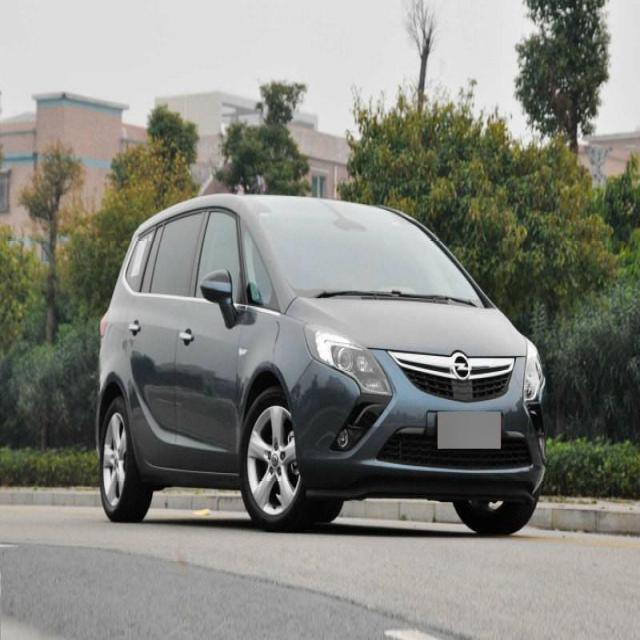door: (127, 210, 208, 463)
front_bumper: (288, 348, 547, 500)
front_glass: (252, 204, 491, 306)
front_left_side_light: (520, 336, 544, 404)
front_right_side_door: (172, 203, 246, 476)
front_right_side_light: (303, 320, 393, 398)
front_right_side_mirror: (200, 268, 234, 320)
wheel: (240, 386, 310, 525), (100, 395, 145, 522)
